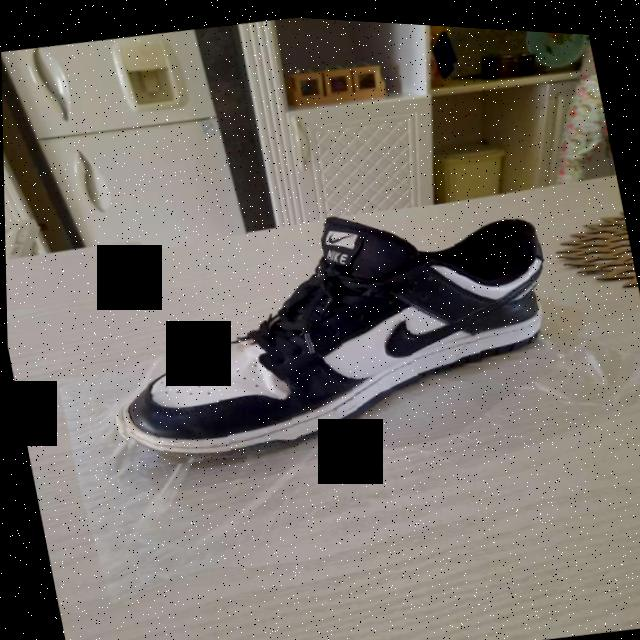shoe: (77, 165, 576, 491)
